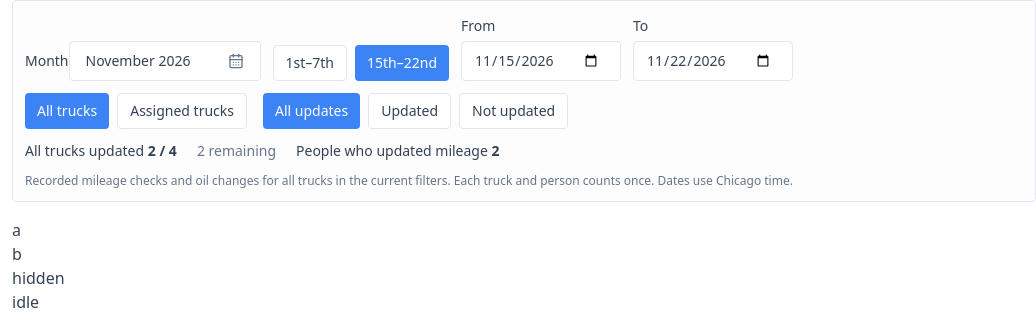
Test: combines all/assigned scope with update status and keeps the other selection
The width and height of the screenshot is (1036, 330).
Expected: the message shows "All trucks updated 2 / 4", [25,141,500,160]
Expected: the message shows "People who updated mileage 2", [25,141,500,160]
Click the button "Not updated": coordinates (514, 111) [459,93,568,129]
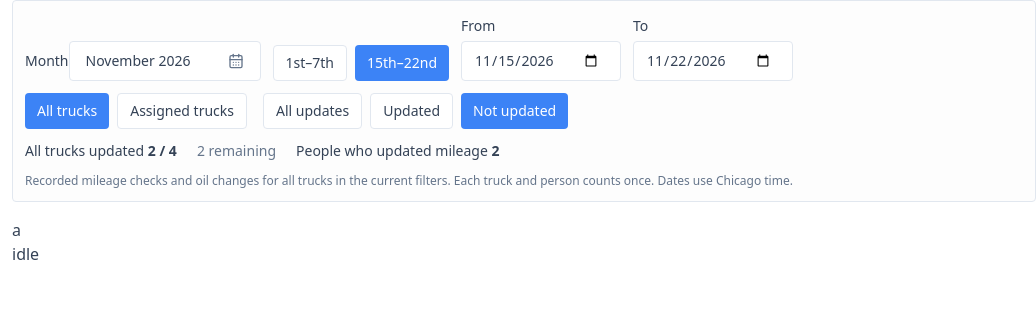
Now the list named "Visible trucks" reads "a idle", box [12,219,39,265]
Click the button "Assigned trucks": coordinates (182, 111) [117,93,247,129]
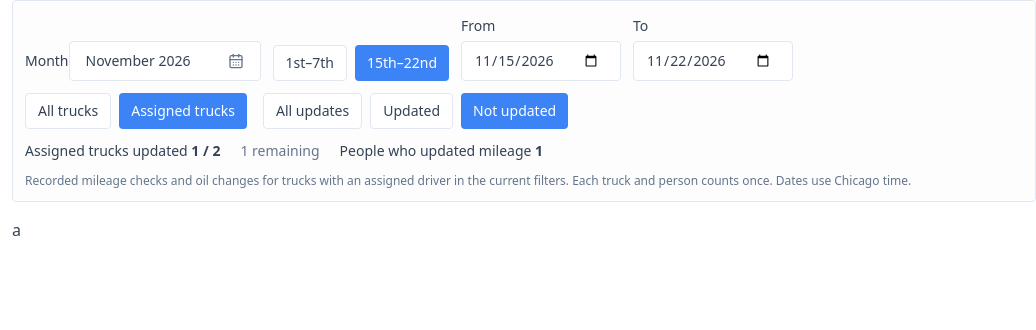
Expected: the list named "Visible trucks" reads "a", [12,219,21,241]
Now the message shows "Assigned trucks updated 1 / 2", box [25,141,543,160]
Click the button "Updated": coordinates (412, 111) [370,93,453,129]
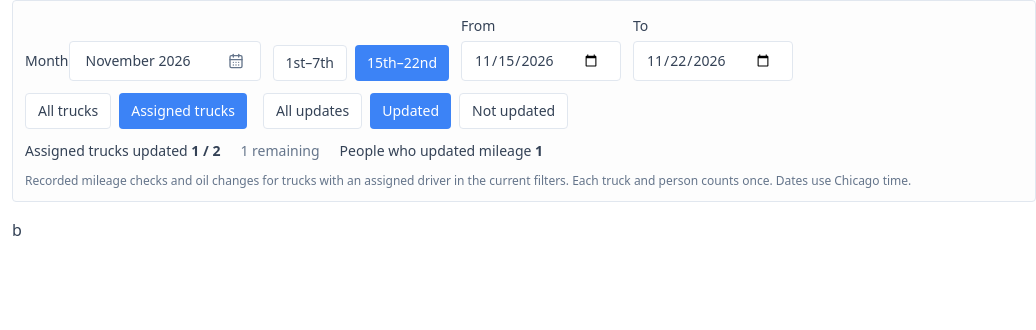
Now the message shows "Assigned trucks updated 1 / 2", box [25,141,543,160]
Now the list named "Visible trucks" reads "b", box [12,219,22,241]
Click the button "All trucks": coordinates (68, 111) [25,93,111,129]
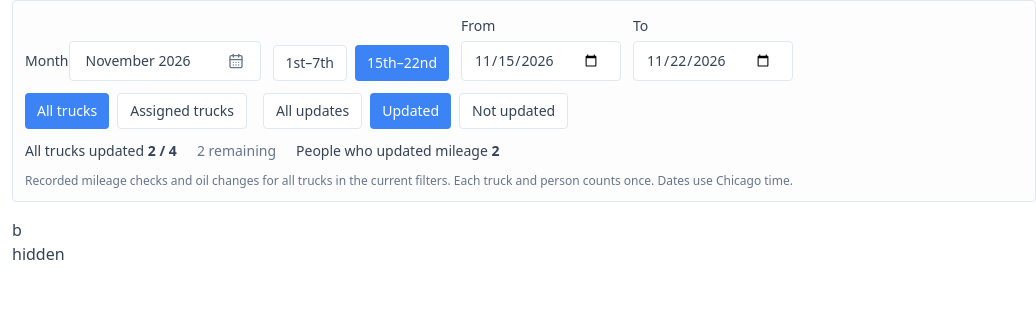
Now the list named "Visible trucks" reads "b hidden", box [12,219,65,265]
Now the message shows "All trucks updated 2 / 4", box [25,141,500,160]
Click the button "All updates": coordinates (313, 111) [263,93,362,129]
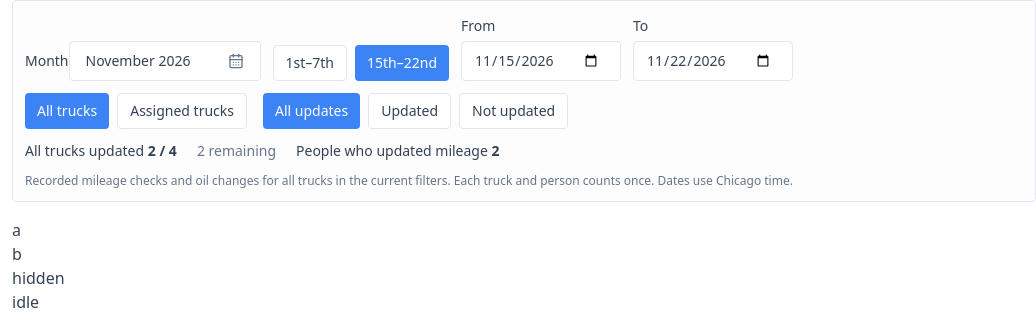
Now the list named "Visible trucks" reads "a b hidden idle", box [12,219,65,313]
